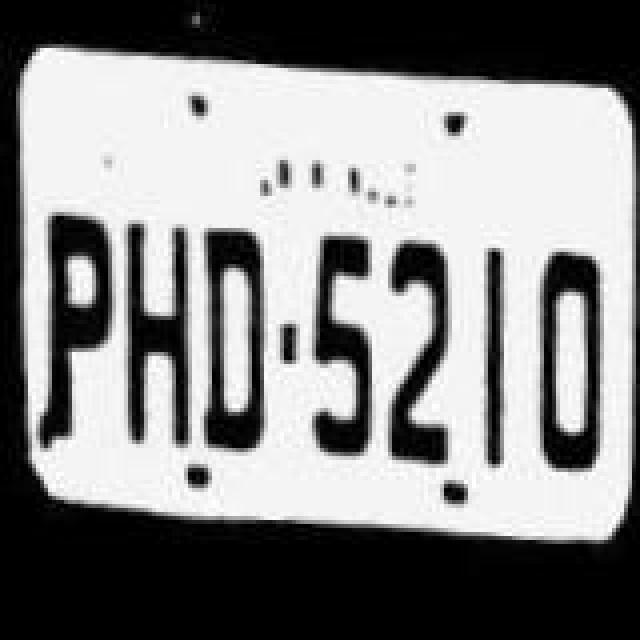1: (462, 242, 522, 494)
2: (374, 222, 466, 482)
5: (296, 218, 384, 478)
D: (192, 198, 276, 478)
H: (112, 192, 196, 472)
O: (522, 240, 614, 500)
P: (38, 190, 126, 466)
